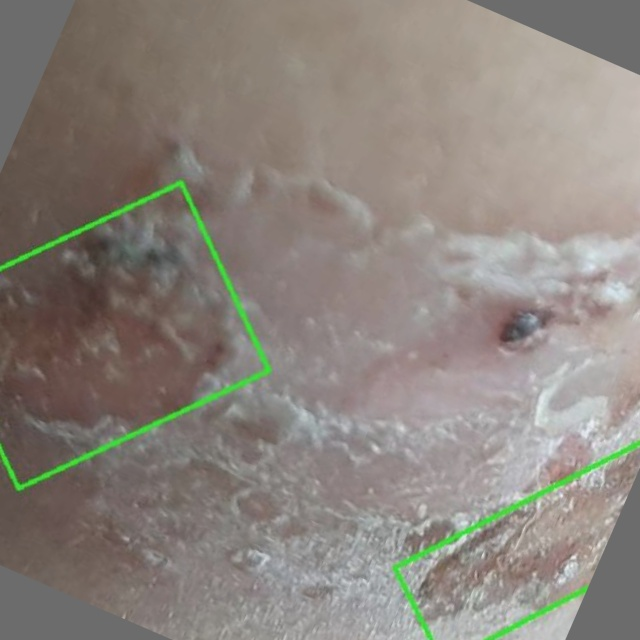Contact Dermatitis: (0, 183, 268, 489), (373, 382, 639, 639)
